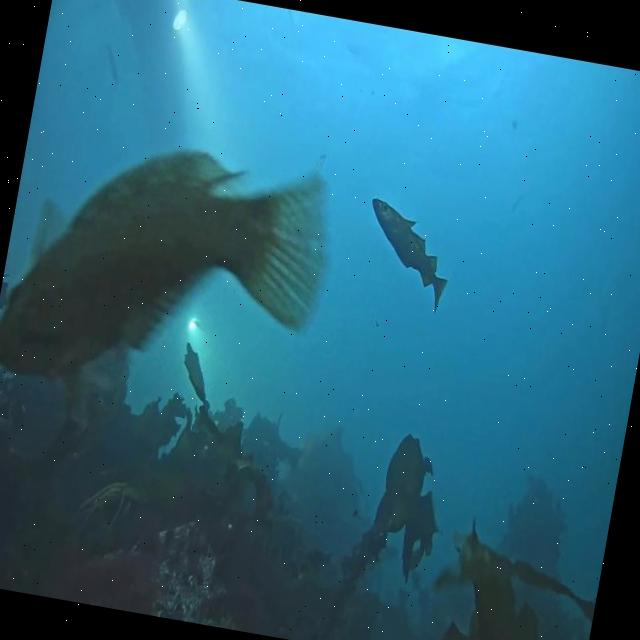fish: (0, 114, 338, 424), (353, 195, 458, 317), (101, 43, 122, 85)
